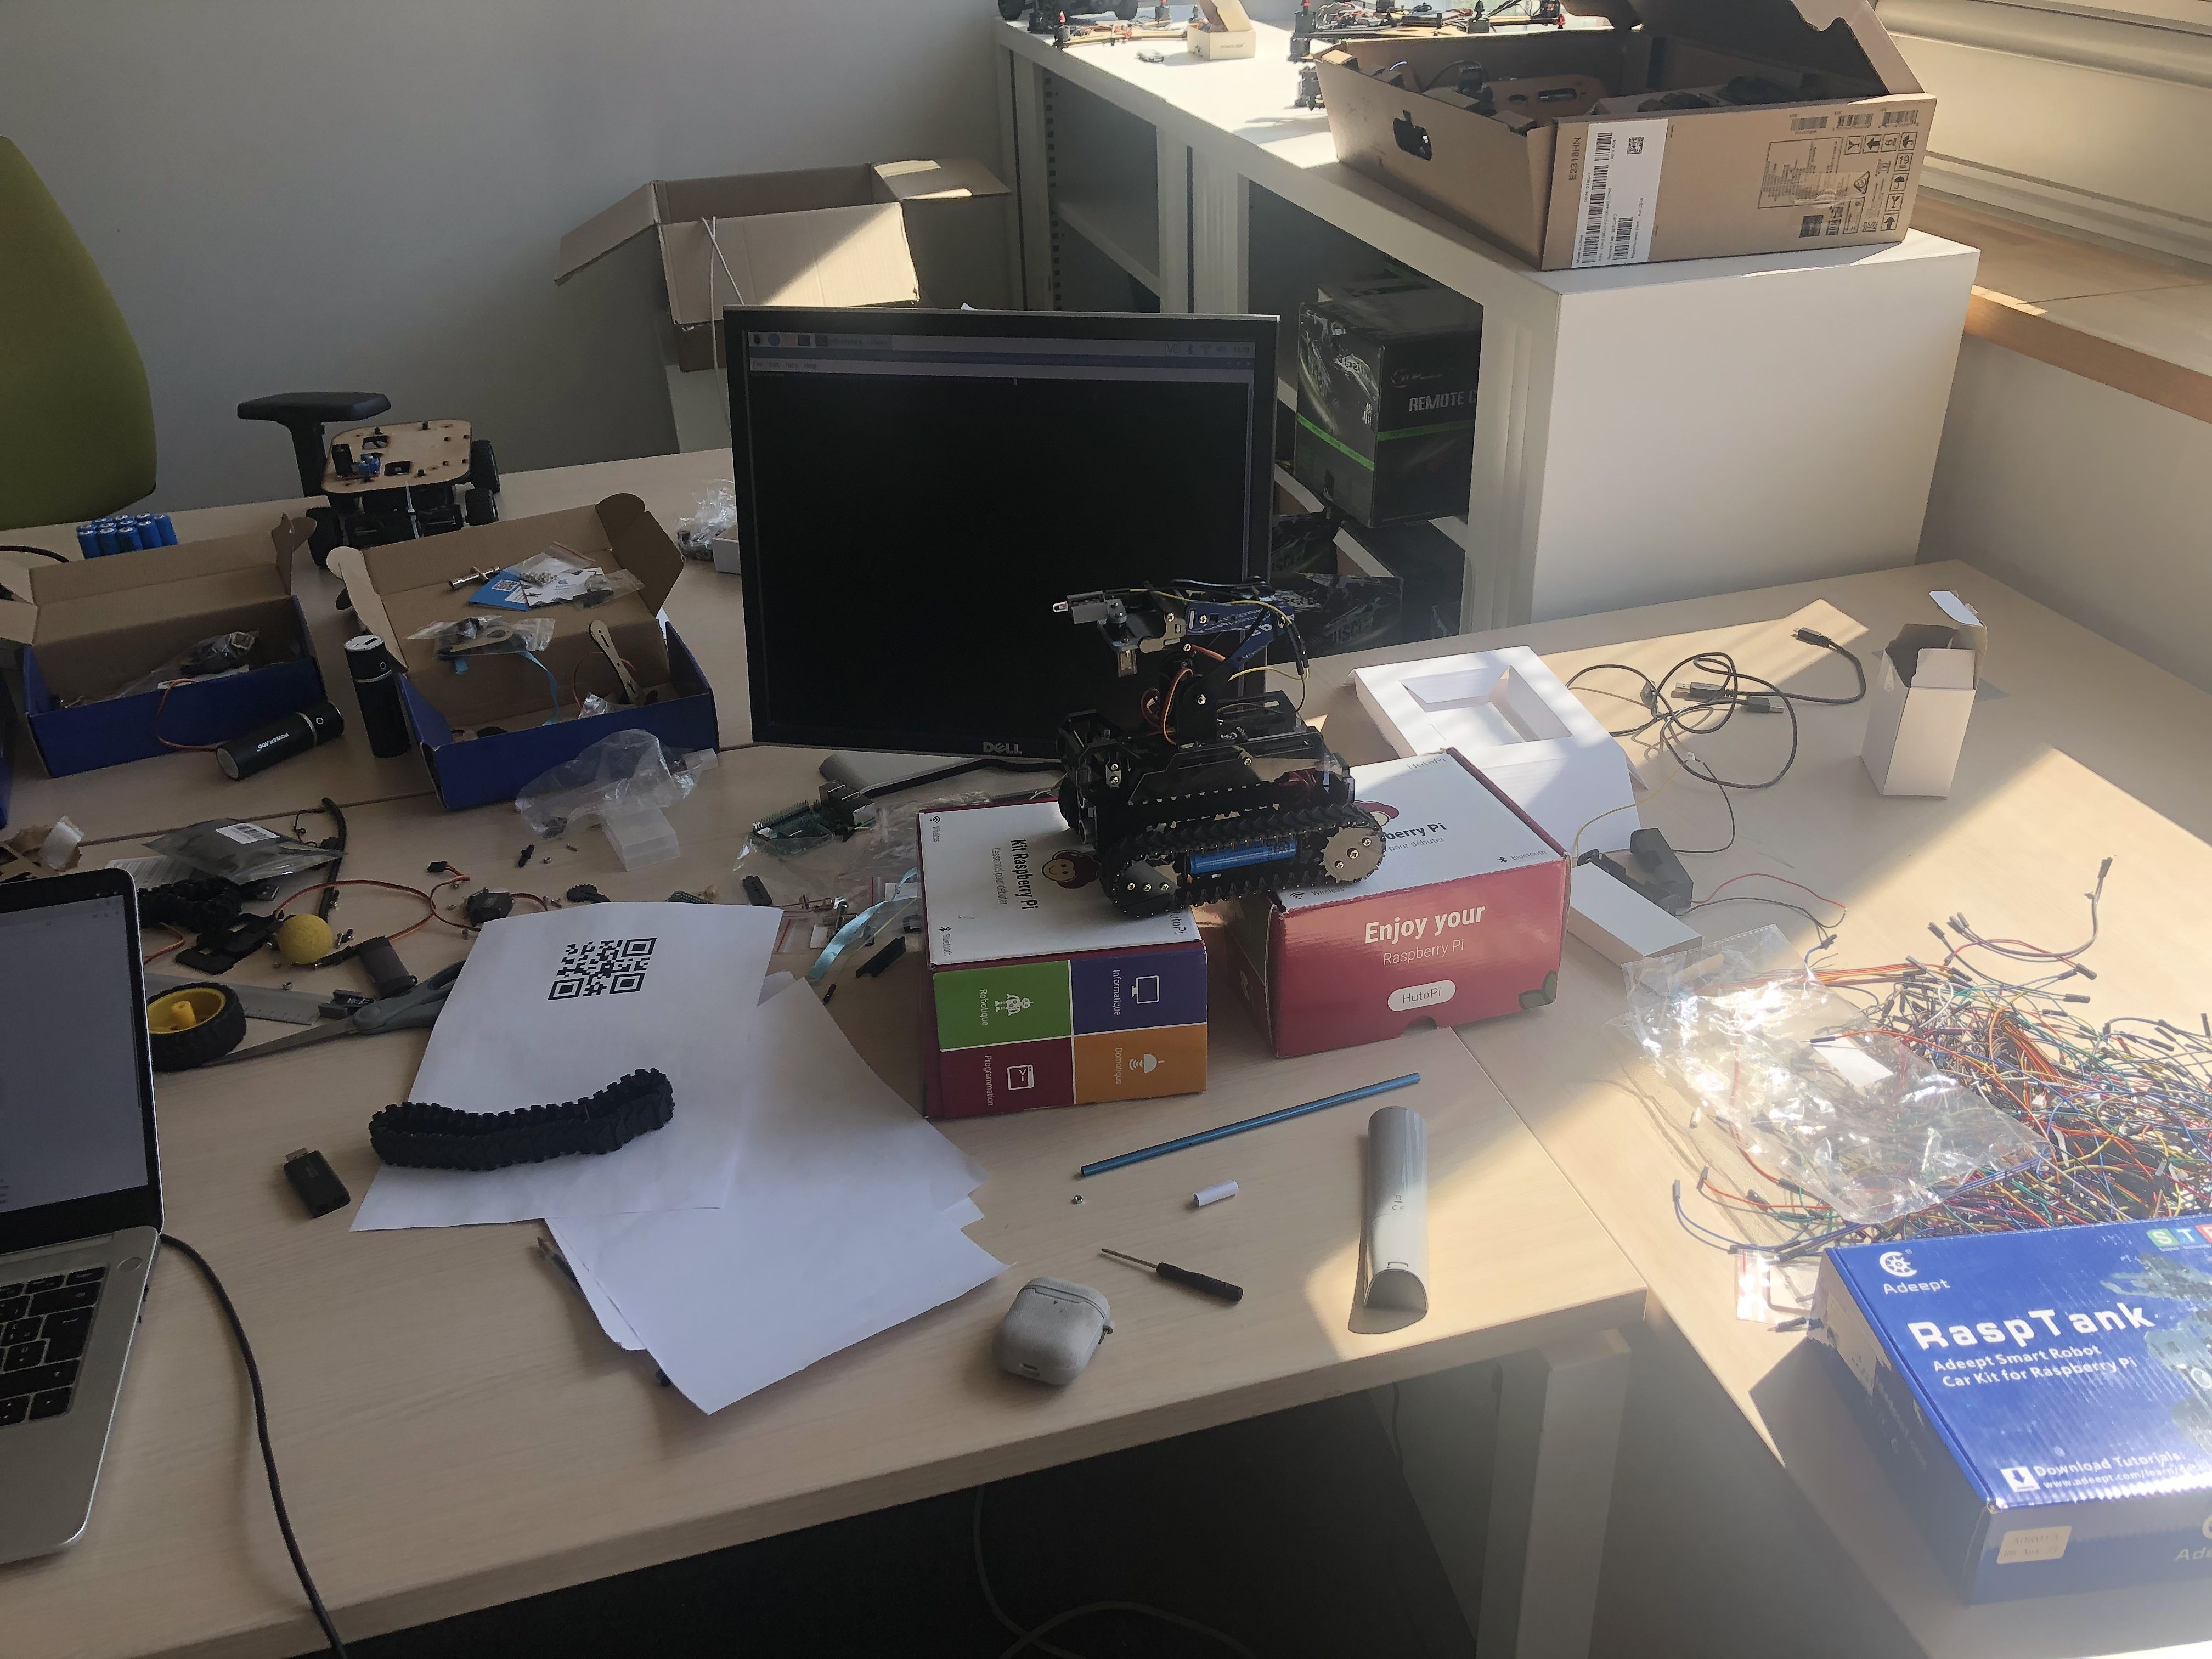rasptank: (1050, 587, 1383, 918)
